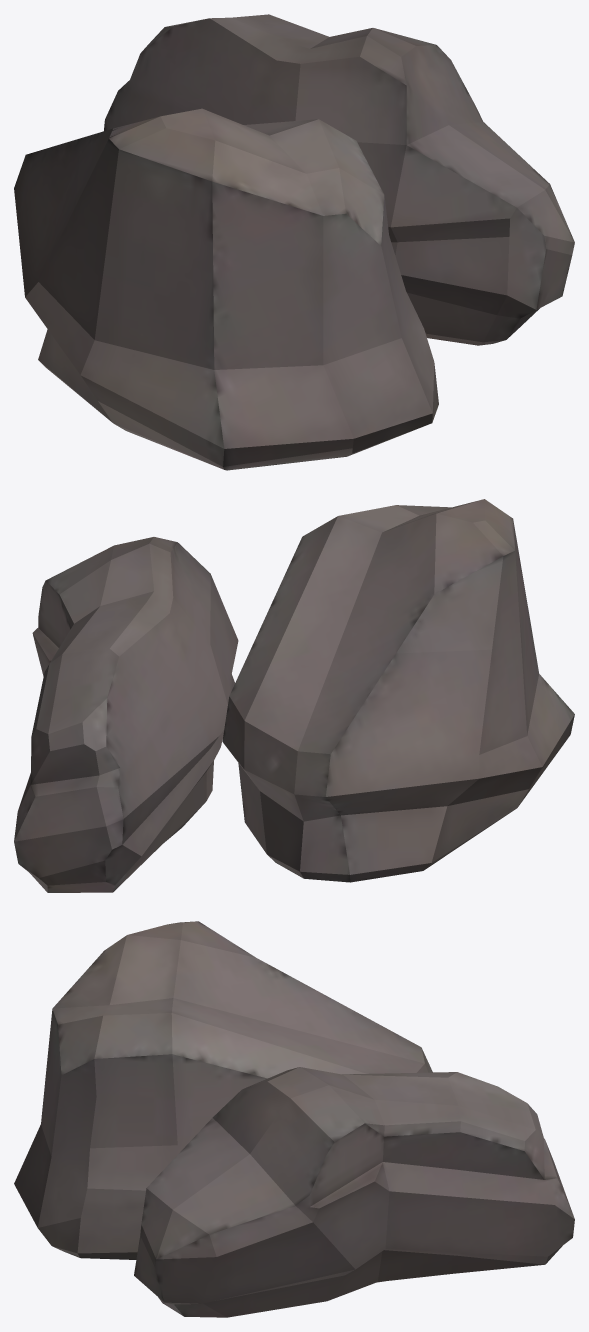
The picture shows the model from 3 angles, top to bottom: view 1: azimuth 30°, elevation 25°; view 2: azimuth 150°, elevation 25°; view 3: azimuth 270°, elevation 25°; orthographic projection. The views are drawn at different scales.
Visible parts, largest first — view 1: body0_model0_lod0_mesh0; view 2: body0_model0_lod0_mesh0; view 3: body0_model0_lod0_mesh0.
Boxes of the visible parts, left/top/right/bottom form: body0_model0_lod0_mesh0: left=14, top=14, right=574, bottom=470; body0_model0_lod0_mesh0: left=14, top=499, right=574, bottom=892; body0_model0_lod0_mesh0: left=14, top=921, right=574, bottom=1317.
Size of the model in its own units: 392 by 233 by 466.
Materials: 1 (1 with a texture image).
